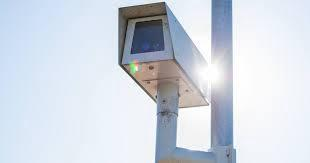Speed-Camera: (110, 0, 218, 110)
